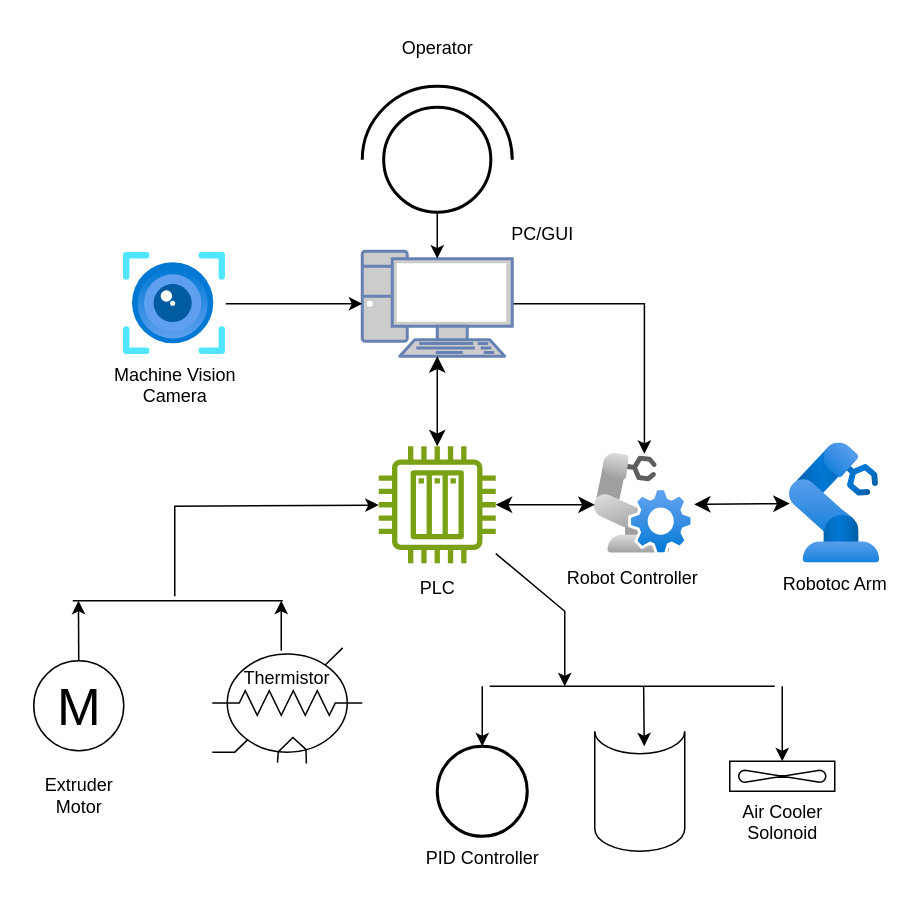
The diagram is 912 pixels wide and 906 high, and some of its shapes have lost their labels. The shapes that lost their labels are listed below. From the top down, each one's box as (x1, y1, x2, y2) in pixels, then its label:
(435, 744, 528, 837): PID
(593, 730, 685, 851): Pellet Feeder Solonoid
